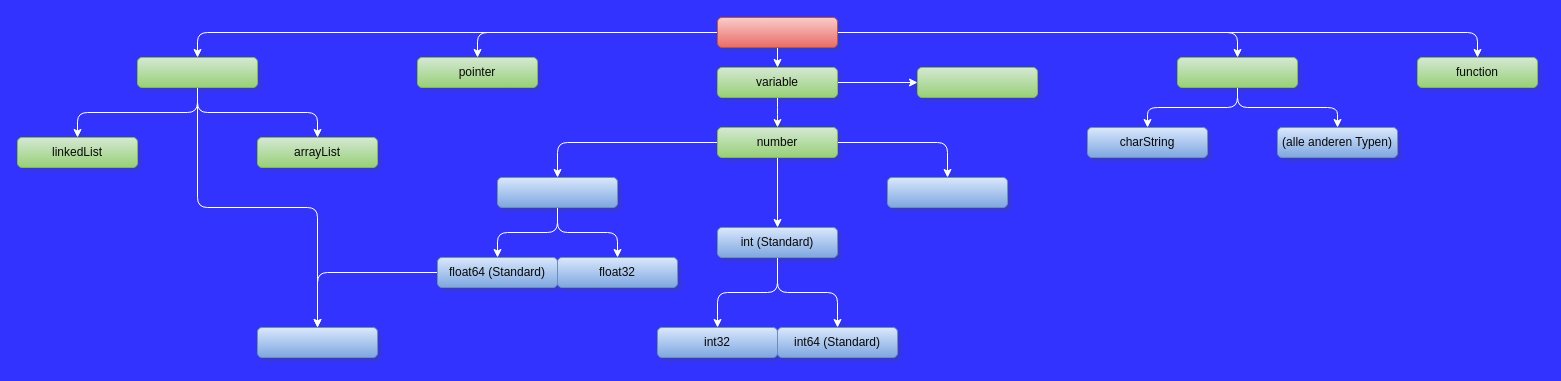
This 1561x381 diagram has some shape labels left out. The shapes that lost their labels are listed below. From the top down, each one's centre as x and y in pixels, then its label:
pixel 777 32: type
pixel 197 72: struct
pixel 977 82: string
pixel 1237 72: array
pixel 557 192: float
pixel 947 192: byte
pixel 317 342: complex
